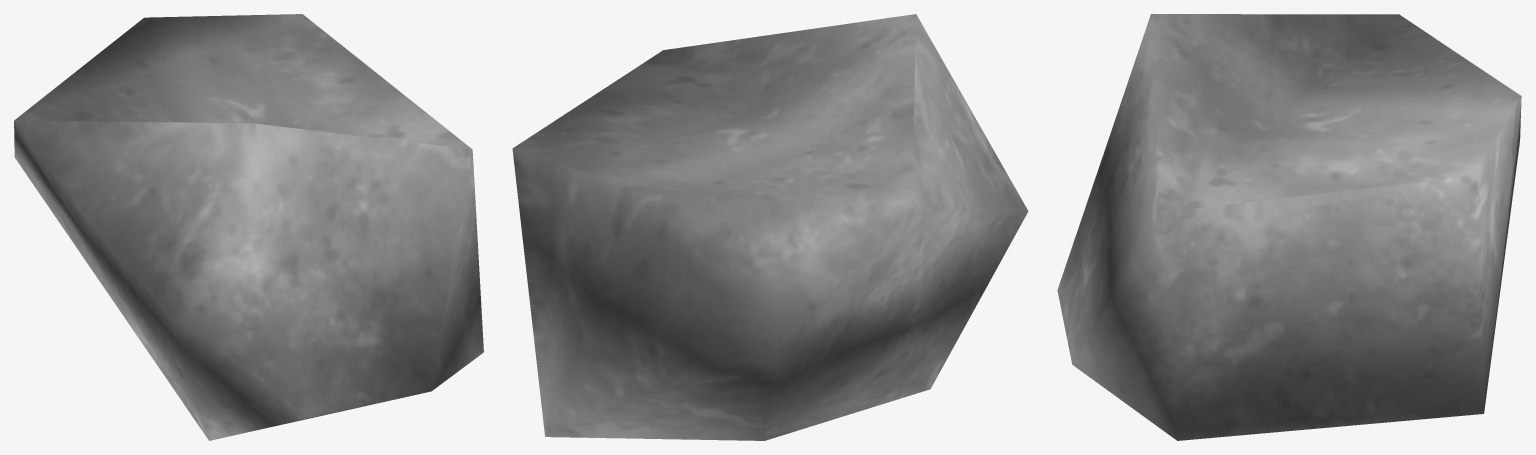
Rendered from Rock2_LOD2.fbx.
3 views of the same model, side by side, from view 1: azimuth 30°, elevation 25°; view 2: azimuth 150°, elevation 25°; view 3: azimuth 270°, elevation 25° (orthographic). The views are drawn at different scales.
Visible parts, largest first — view 1: Rock2_2; view 2: Rock2_2; view 3: Rock2_2.
Part boxes in pixels (x1,y1,x2,y2): Rock2_2: (14, 14, 483, 440); Rock2_2: (512, 14, 1028, 440); Rock2_2: (1057, 14, 1521, 440).
Bounding box in the file's own units: 0.8209 × 0.6987 × 0.8924.
